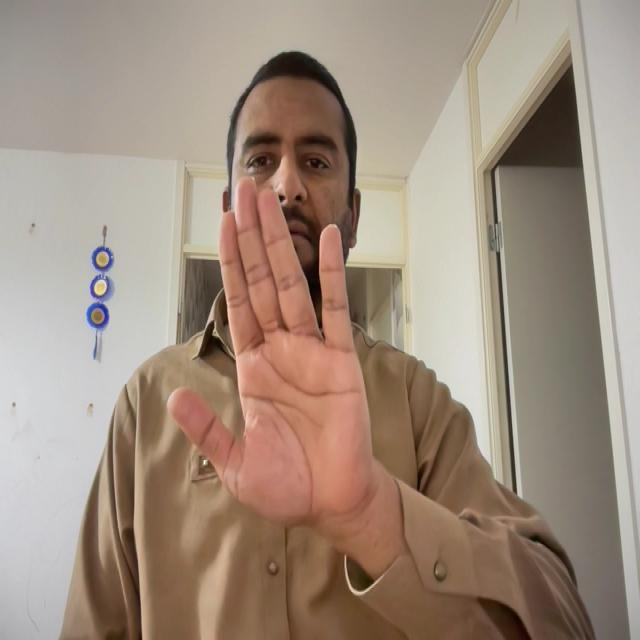Hello: (160, 152, 398, 540)
